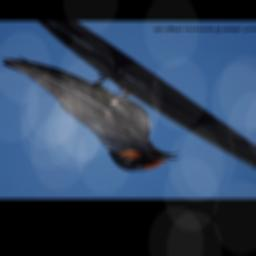Swallow: (0, 58, 178, 171)
